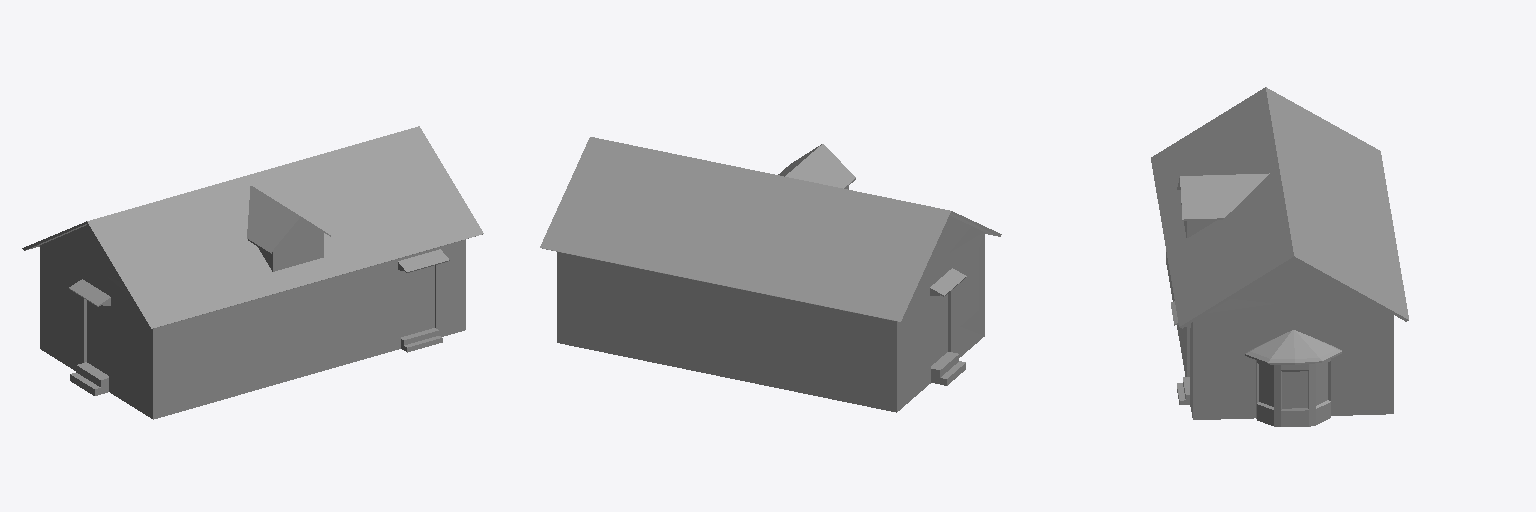
File: casa1.obj
3 renders of one model, left to right at view 1: azimuth 30°, elevation 25°; view 2: azimuth 150°, elevation 25°; view 3: azimuth 270°, elevation 25°, orthographic.
Parts seen in each view (by area): view 1: Cube_Cube_002; view 2: Cube_Cube_002; view 3: Cube_Cube_002.
Part boxes in pixels (left/top/right/bottom): Cube_Cube_002: left=22, top=126, right=483, bottom=419; Cube_Cube_002: left=540, top=137, right=1001, bottom=412; Cube_Cube_002: left=1151, top=87, right=1408, bottom=426.
Size of the model in its own units: 33.93 by 14.67 by 20.74.